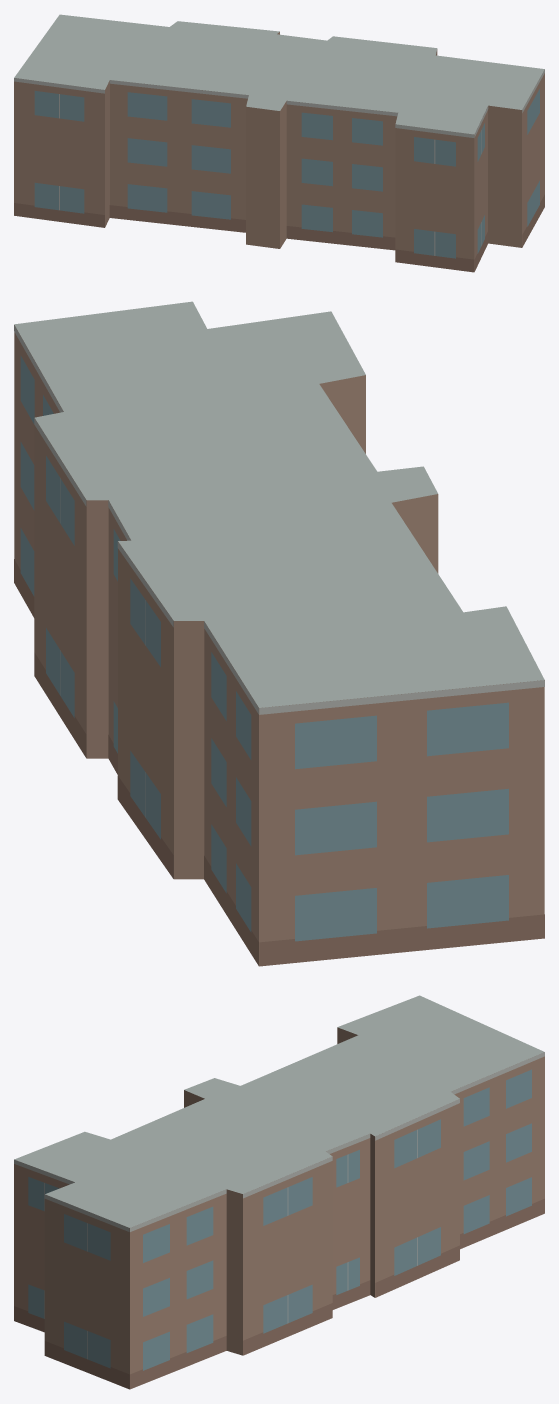
Rendered from survey-upis-32943727.glb.
3 renders of one model, top to bottom at view 1: azimuth 30°, elevation 25°; view 2: azimuth 150°, elevation 25°; view 3: azimuth 270°, elevation 25°, orthographic. The views are drawn at different scales.
Visible parts, largest first — view 1: survey-upis-32943727.tmp; view 2: survey-upis-32943727.tmp; view 3: survey-upis-32943727.tmp.
Boxes of the visible parts, bbox=[...] form: survey-upis-32943727.tmp: bbox=[14, 14, 544, 272]; survey-upis-32943727.tmp: bbox=[14, 301, 544, 966]; survey-upis-32943727.tmp: bbox=[14, 995, 544, 1389].
Bounding box in the file's own units: 28.27 × 9.15 × 27.26.
